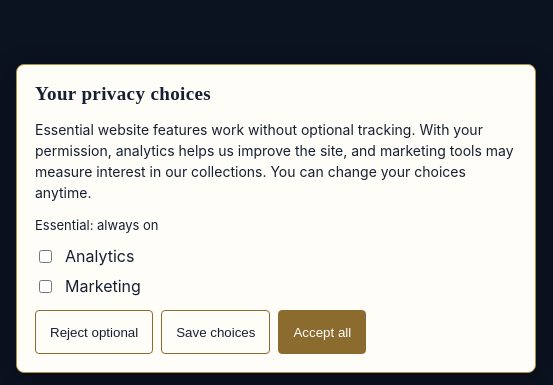
Test: ADS-002B.2 consent manager › does not claim acceptance when browser storage rejects saving
The width and height of the screenshot is (553, 385).
What coordinates should you click on to do the following:
click the button "Accept all"
I would click on:
 (322, 332)
Its box is 278,310 -> 366,354.
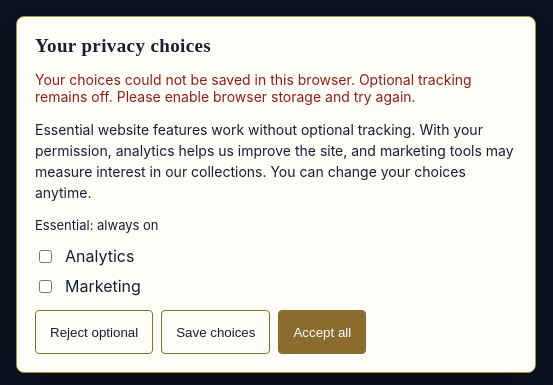
Expected: the message shows "Optional tracking remains off", 35,71 -> 472,105
